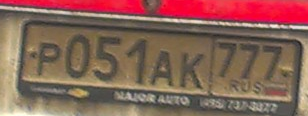character: (93, 35, 120, 89), (65, 30, 90, 84), (126, 36, 148, 89), (179, 51, 204, 96), (150, 45, 174, 91), (36, 39, 60, 83), (261, 42, 283, 80), (216, 39, 235, 79), (239, 40, 258, 79)
